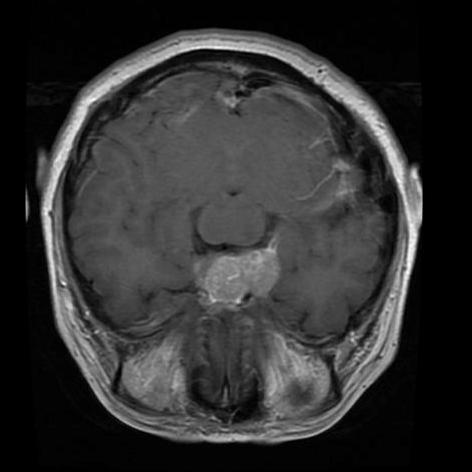Tumour-Pituitary: (189, 244, 285, 306)
